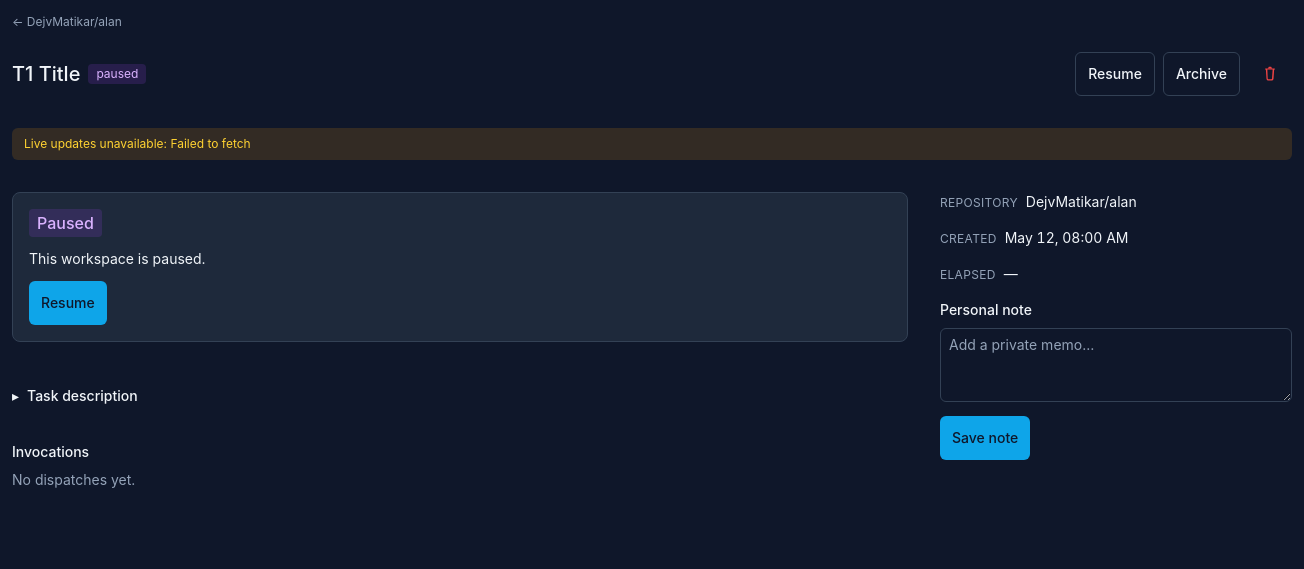
Test case: Workspace detail › surfaces a resume error and stays on the page
The image size is (1304, 569).
Click the button with test id "resume-button" at coordinates (1115, 74), box left=1075, top=52, right=1155, bottom=96
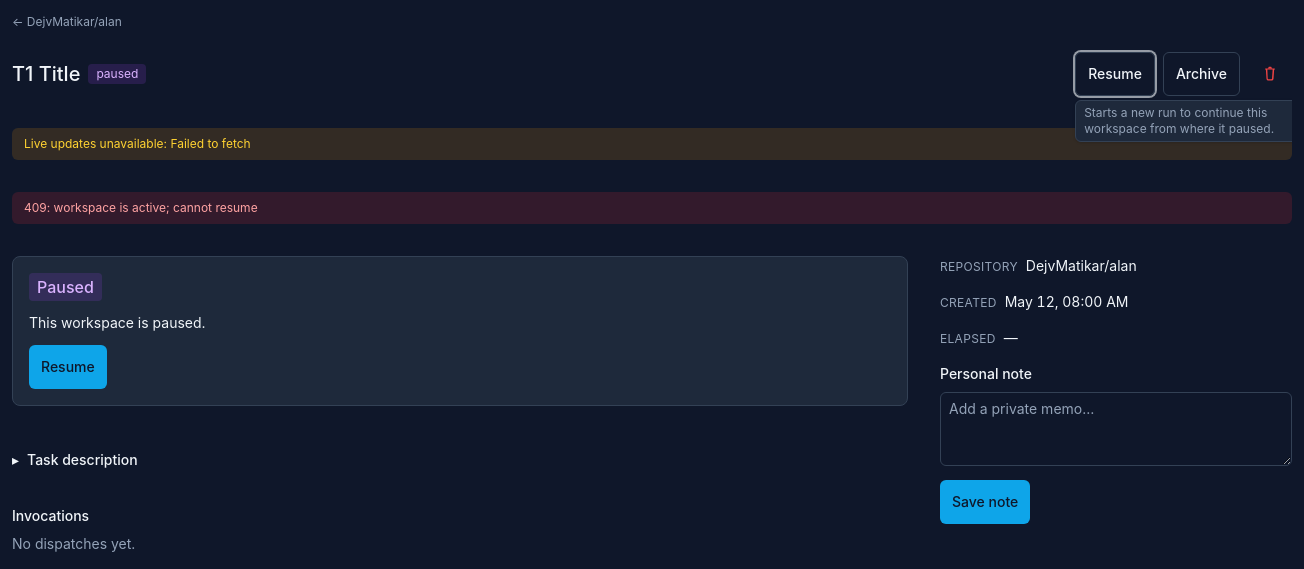
Check: the message with test id "stop-resume-error" shows "409", box left=24, top=200, right=258, bottom=215
